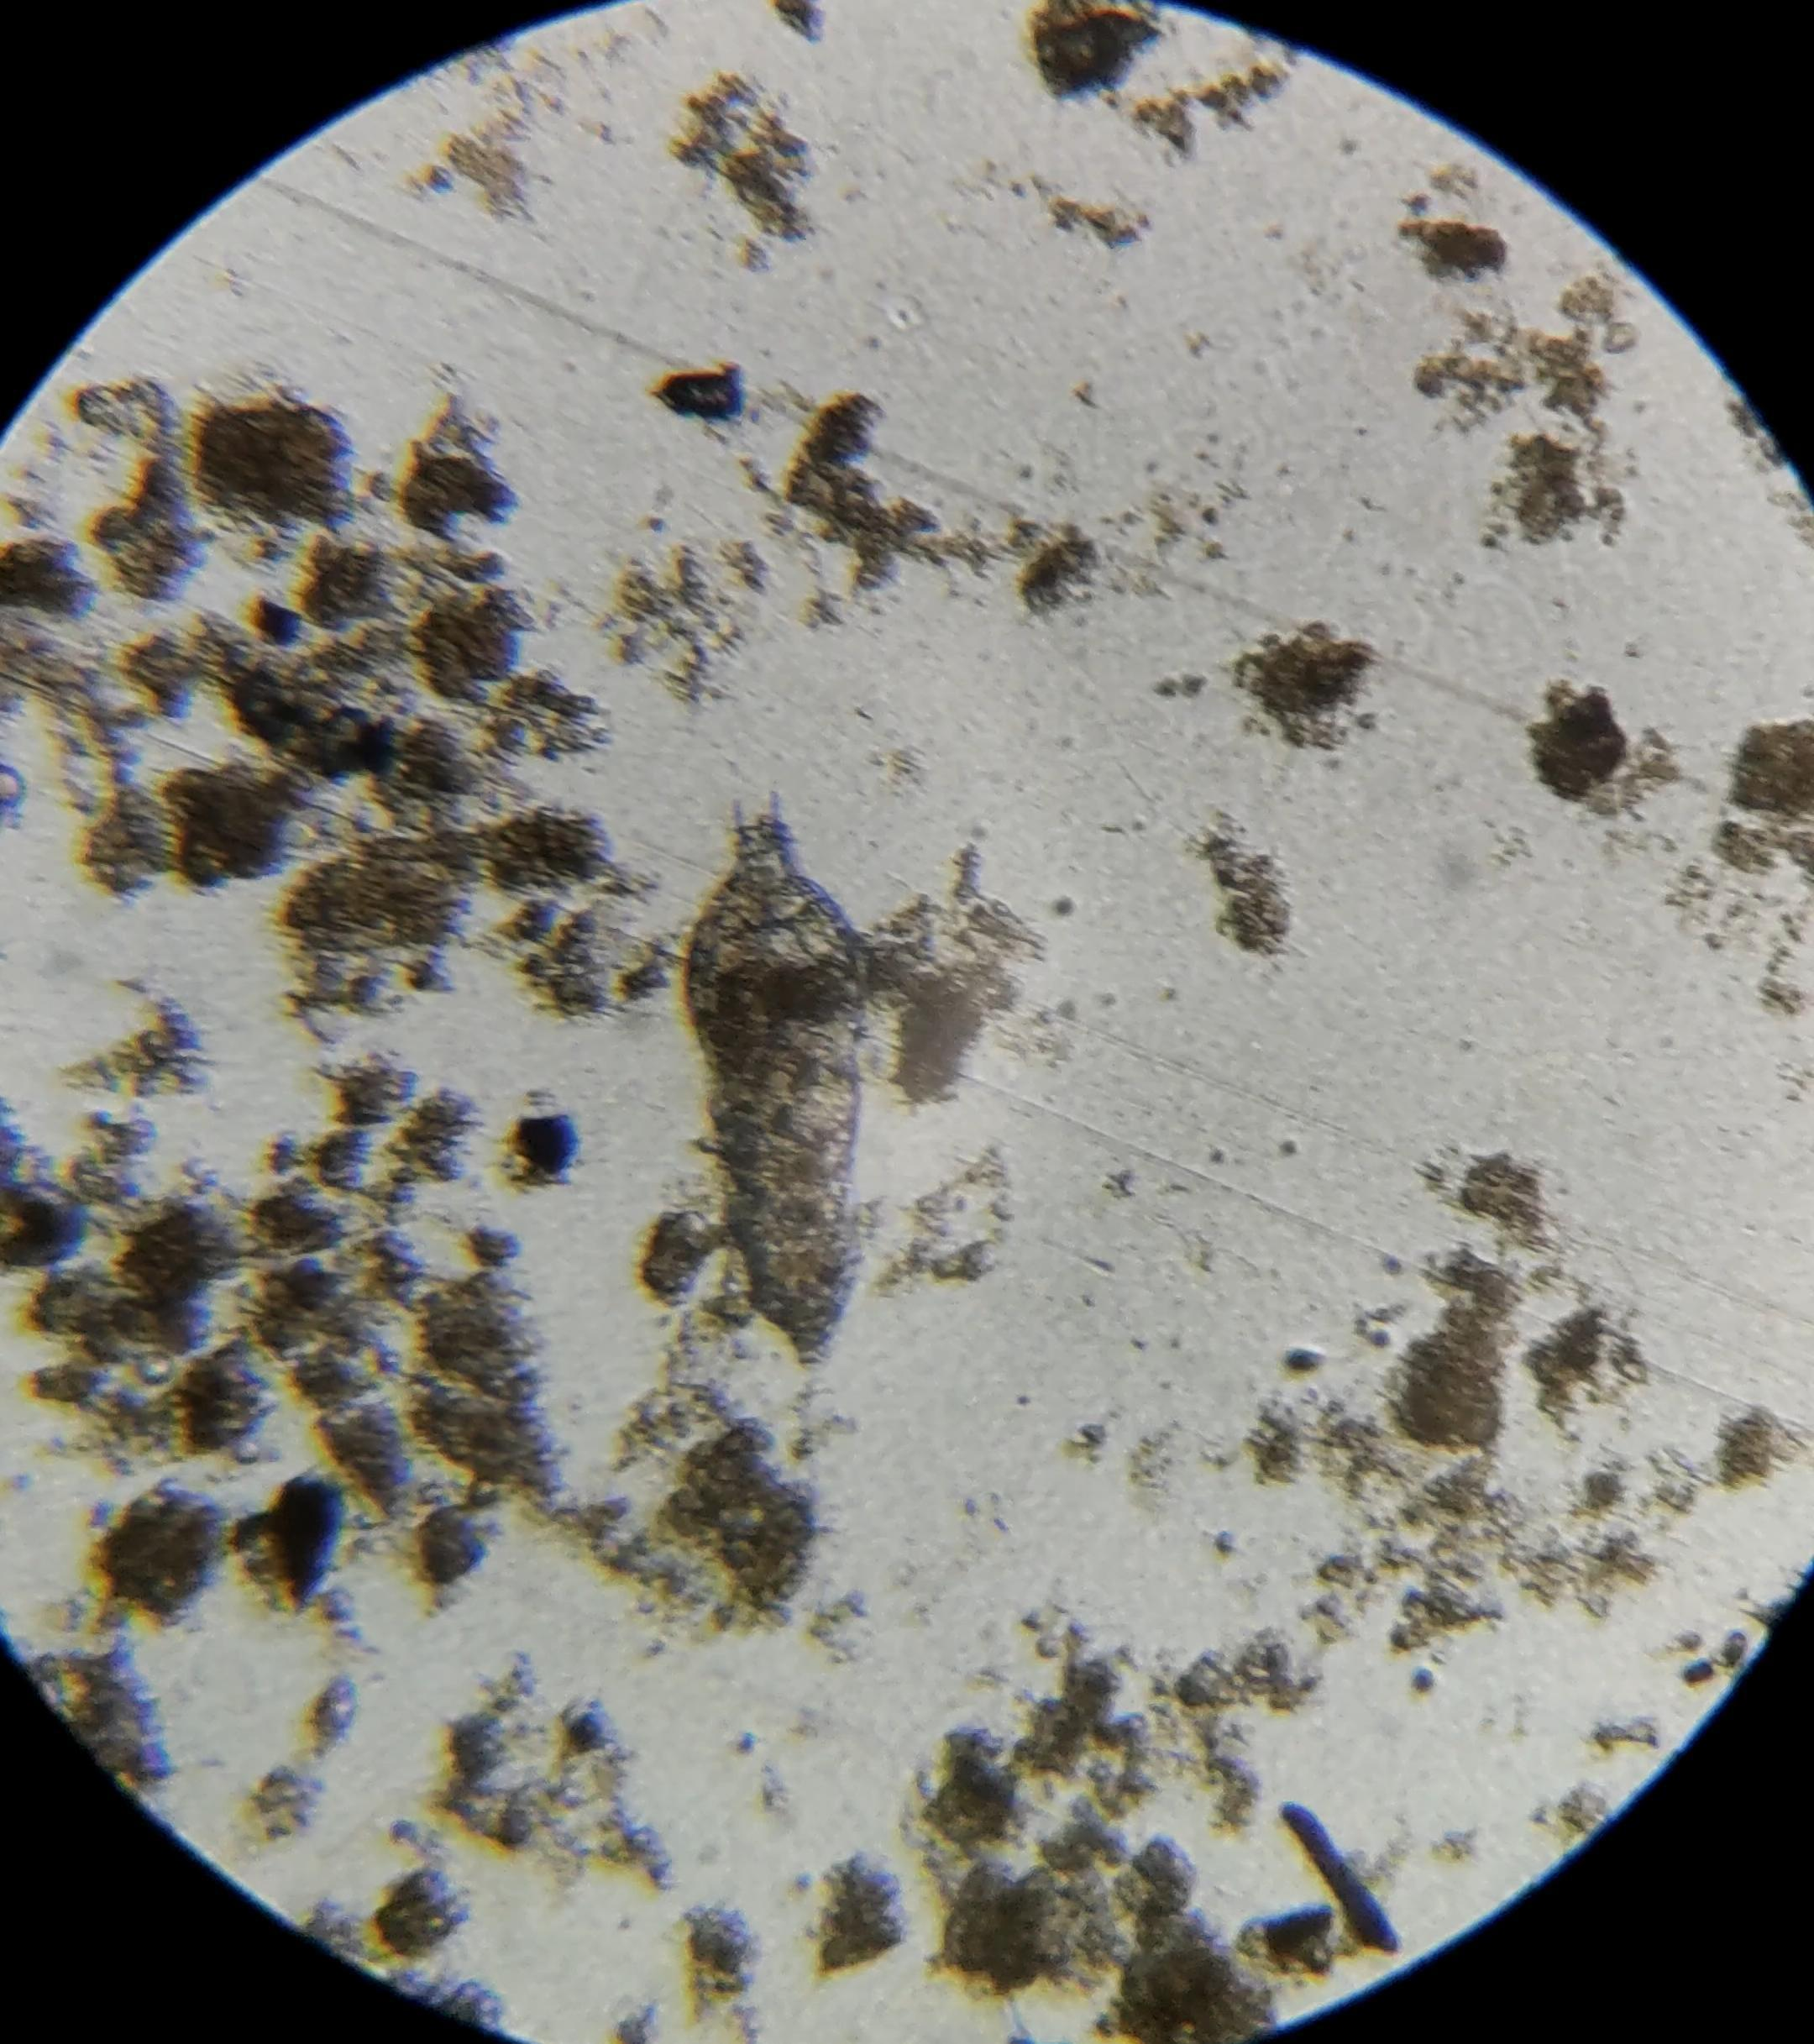Do: (686, 792, 867, 1364)
